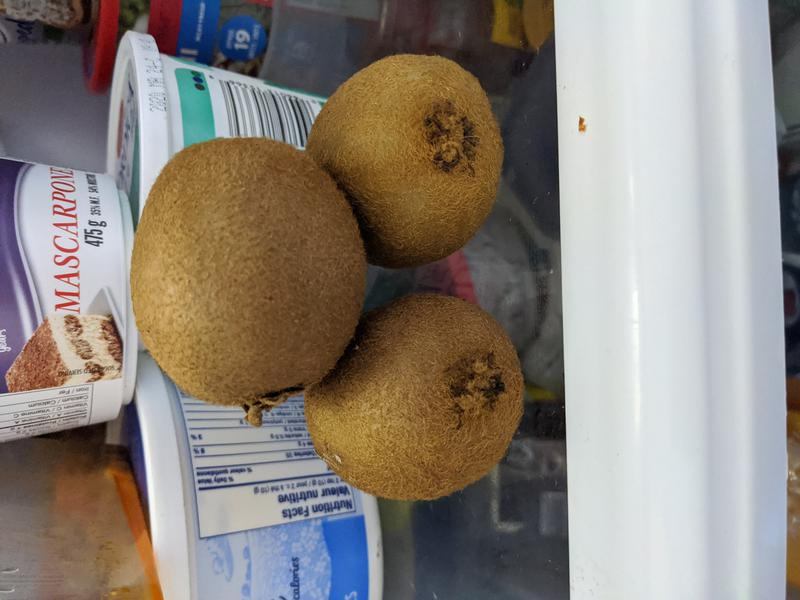kiwi: (131, 137, 369, 408), (302, 289, 523, 502), (306, 53, 504, 270)
